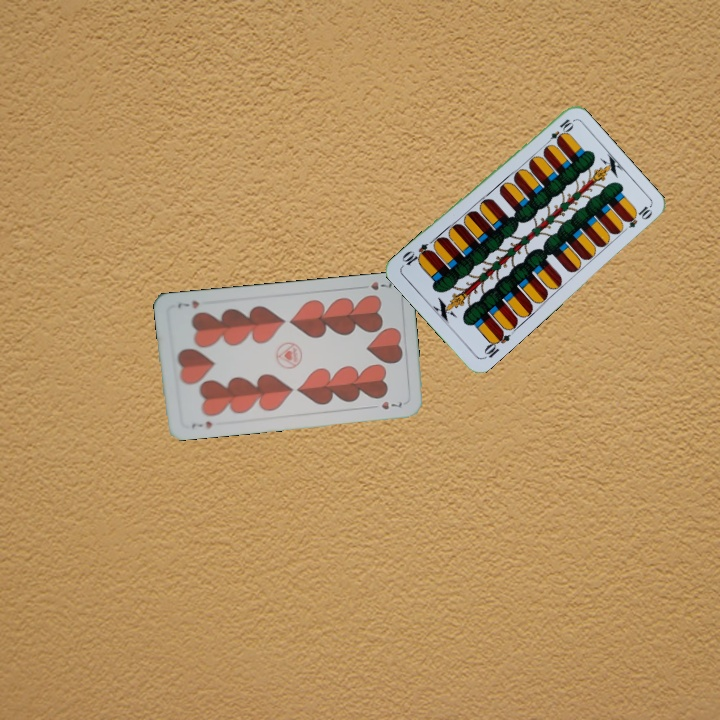E10: (541, 115, 576, 149), (479, 326, 513, 361)
H7: (356, 277, 395, 293), (187, 417, 215, 431)
